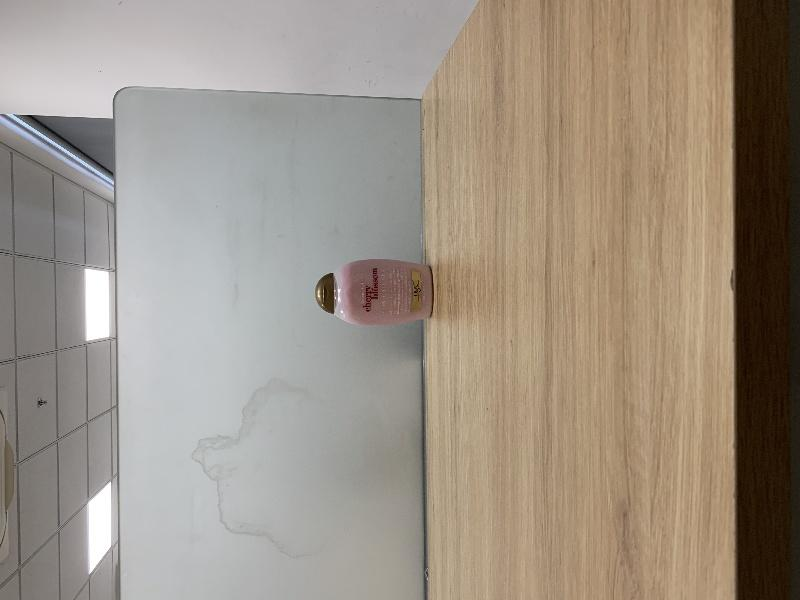CherryBlossom_Conditioner: (315, 259, 433, 326)
